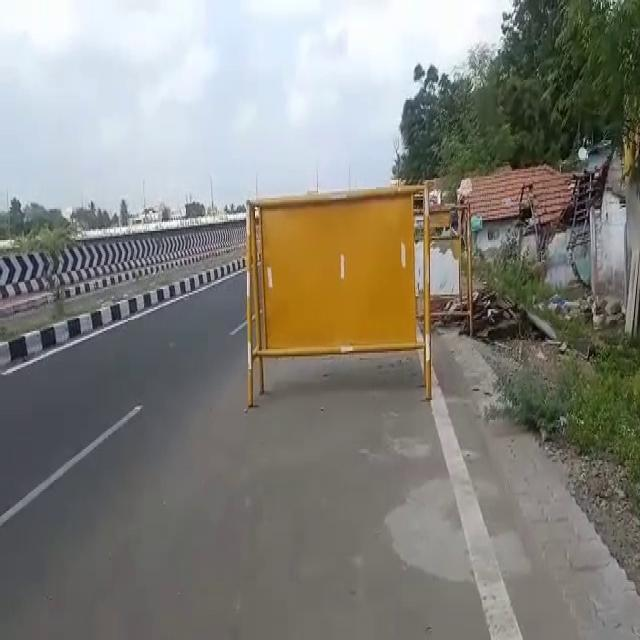fallen_object: (243, 182, 433, 408)
